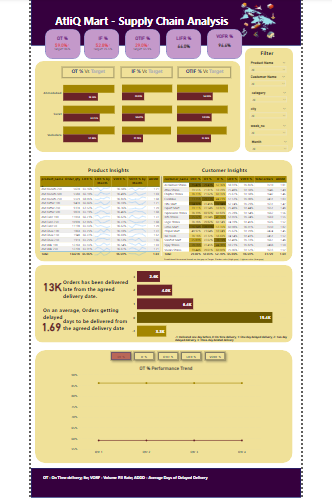

This screenshot's page, from the dashboard's own definition file:
{"tool":"powerbi","page":{"name":"Page 1","canvas":[1350,2500],"ordinal":0},"visuals":[{"type":"shape","box":[18,316,1028,456],"z":0},{"type":"textbox","box":[155.9,1393.5,350.3,135.3],"z":0,"group":"g2"},{"type":"textbox","box":[56.8,1536,449.2,101.2],"z":0,"group":"g1"},{"type":"shape","box":[1068,250,240,522],"z":1000},{"type":"card","fields":{"Values":["fact_order_lines.delayed order count"]},"box":[42,1368,132.3,135.3],"z":1000,"group":"g2"},{"type":"card","fields":{"Values":["fact_order_lines.ADDD"]},"box":[30,1550.5,142.8,173.5],"z":1000,"group":"g1"},{"type":"textbox","box":[155,1589,339.1,135],"z":2000,"group":"g1"},{"type":"shape","box":[0,2352,1350,148],"z":2000},{"type":"shape","box":[20,812,1288,508],"z":3000},{"type":"shape","box":[20,1336,1288,388],"z":4000},{"type":"shape","box":[0,0,1350,238],"z":5000},{"type":"shape","box":[20,1760,1288,566],"z":6000},{"type":"shape","box":[880,154,176,150],"z":7000},{"type":"shape","box":[264,154,176,150],"z":8000},{"type":"shape","box":[470,154,176,150],"z":9000},{"type":"shape","box":[674,154,176,150],"z":10000},{"type":"shape","box":[68,154,178,150],"z":11000},{"type":"kpi","title":"OT %","fields":{"Indicator":["fact_order_lines.OT %"],"TrendLine":["dim_date.mmm_yy"],"Goal":["dim_targets_orders.ontime target %"]},"box":[78,190,154,86],"z":12000},{"type":"kpi","title":"IF %","fields":{"Indicator":["fact_order_lines.IF %"],"Goal":["dim_targets_orders.Infull target %"],"TrendLine":["dim_date.mmm_yy"]},"box":[274,192,172,82],"z":13000},{"type":"kpi","title":"OTIF %","fields":{"Indicator":["fact_order_lines.OTIF %"],"Goal":["dim_targets_orders.otif target %"],"TrendLine":["dim_date.mmm_yy"]},"box":[470,188,176,86],"z":14000},{"type":"card","title":"LIFR %","fields":{"Values":["fact_order_lines.LIFR %"]},"box":[674,192,178,72],"z":15000},{"type":"card","title":"VOFR %","fields":{"Values":["fact_order_lines.VOFR %"]},"box":[880,182,176,82],"z":16000},{"type":"clusteredBarChart","fields":{"Category":["dim_customers.city"],"Y":["dim_targets_orders.ontime target %","fact_order_lines.OT %"]},"box":[54,380,400,392],"z":17000},{"type":"clusteredBarChart","fields":{"Category":["dim_customers.city"],"Y":["dim_targets_orders.Infull target %","fact_order_lines.IF %"]},"box":[726,418,306,312],"z":18000},{"type":"clusteredBarChart","fields":{"Category":["dim_customers.city"],"Y":["dim_targets_orders.otif target %","fact_order_lines.OTIF %"]},"box":[450,418,308,312],"z":19000},{"type":"tableEx","fields":{"Values":["dim_products.product_name","Sum(fact_order_lines.order_qty)","fact_order_lines.LIFR %","SparklineData(fact_order_lines.LIFR %_[dim_date.date.Variation.Date Hierarchy.Month])","fact_order_lines.VOFR %","SparklineData(fact_order_lines.VOFR %_[dim_date.date.Variation.Date Hierarchy.Month])","fact_order_lines.ADDD"]},"box":[40,886,622,410],"z":20000},{"type":"tableEx","fields":{"Values":["dim_customers.customer_name","fact_order_lines.OTIF %","fact_order_lines.OT %","fact_order_lines.IF %","fact_order_lines.LIFR %","fact_order_lines.VOFR %","fact_orders_aggregate.total orders","fact_order_lines.ADDD"]},"box":[654,886,644,424],"z":21000},{"type":"slicer","fields":{"Values":["dim_customers.customer_name"]},"box":[1084,380,198,74],"z":22000},{"type":"slicer","fields":{"Values":["dim_products.product_name"]},"box":[1086,312,200,68],"z":23000},{"type":"slicer","fields":{"Values":["dim_products.category"]},"box":[1088,460,198,82],"z":24000},{"type":"slicer","fields":{"Values":["dim_customers.city"]},"box":[1084,542,202,90],"z":25000},{"type":"slicer","fields":{"Values":["dim_date.week_no"]},"box":[1084,624,202,82],"z":26000},{"type":"slicer","fields":{"Values":["dim_date.date.Variation.Date Hierarchy.Month"]},"box":[1088,706,202,88],"z":27000},{"type":"clusteredBarChart","fields":{"Category":["fact_order_lines.daydelay"],"Y":["Count(fact_order_lines.order_id)"]},"box":[502,1350,784,358],"z":28000},{"type":"group","id":"g1","title":"Group 1","box":[30,1536,476,190],"z":29000},{"type":"group","id":"g2","title":"Group 2","box":[42,1368,464,162],"z":30000},{"type":"actionButton","box":[634,1770,100,40],"z":32000},{"type":"lineChart","title":"OT %  Performance Trend","fields":{"Y":["dim_targets_orders.ontime target %","fact_order_lines.OT %"],"Category":["dim_date.mmm_yy.Variation.Date Hierarchy.Quarter","dim_date.mmm_yy.Variation.Date Hierarchy.Month"]},"box":[196,1838,960,450],"z":33000},{"type":"actionButton","box":[400,1770,100,40],"z":34000},{"type":"actionButton","box":[516,1770,100,40],"z":36000},{"type":"actionButton","box":[750,1770,100,40],"z":38000},{"type":"actionButton","box":[868,1770,100,40],"z":40000},{"type":"textbox","box":[113.3,71.7,883.3,95],"z":41000},{"type":"image","box":[910,0,440,238],"z":42000},{"type":"textbox","box":[224,834,324,72],"z":43000},{"type":"textbox","box":[806,834,324,72],"z":44000},{"type":"textbox","box":[662,1290,528,38],"z":45000},{"type":"textbox","box":[54,2378,994,48],"z":46000},{"type":"textbox","box":[716,1678,592,48],"z":46001},{"type":"shape","box":[400,1770,100,40],"z":46002},{"type":"textbox","box":[156,346,260,54],"z":46007},{"type":"textbox","box":[452,346,256,54],"z":46008},{"type":"textbox","box":[734,346,264,54],"z":46009},{"type":"textbox","box":[1076,250,210,54],"z":46010}]}

Visuals, with their boxes in screenshot pixels (x1, y1, x2, y2):
shape: pyautogui.locateOnScreen(28, 42, 246, 138)
textbox: pyautogui.locateOnScreen(58, 270, 132, 298)
textbox: pyautogui.locateOnScreen(37, 300, 131, 321)
shape: pyautogui.locateOnScreen(250, 28, 301, 138)
card - fact_order_lines.delayed order count: pyautogui.locateOnScreen(34, 264, 61, 293)
card - fact_order_lines.ADDD: pyautogui.locateOnScreen(31, 303, 61, 339)
textbox: pyautogui.locateOnScreen(57, 311, 129, 339)
shape: pyautogui.locateOnScreen(25, 472, 310, 497)
shape: pyautogui.locateOnScreen(29, 147, 301, 254)
shape: pyautogui.locateOnScreen(29, 257, 301, 339)
shape: pyautogui.locateOnScreen(25, 0, 310, 26)
shape: pyautogui.locateOnScreen(29, 347, 301, 466)
shape: pyautogui.locateOnScreen(210, 8, 248, 40)
shape: pyautogui.locateOnScreen(80, 8, 118, 40)
shape: pyautogui.locateOnScreen(124, 8, 161, 40)
shape: pyautogui.locateOnScreen(167, 8, 204, 40)
shape: pyautogui.locateOnScreen(39, 8, 77, 40)
"OT %" kpi: pyautogui.locateOnScreen(41, 15, 74, 34)
"IF %" kpi: pyautogui.locateOnScreen(82, 16, 119, 33)
"OTIF %" kpi: pyautogui.locateOnScreen(124, 15, 161, 33)
"LIFR %" card: pyautogui.locateOnScreen(167, 16, 205, 31)
"VOFR %" card: pyautogui.locateOnScreen(210, 14, 248, 31)
clusteredBarChart - dim_customers.city x dim_targets_orders.ontime target %: pyautogui.locateOnScreen(36, 56, 121, 138)
clusteredBarChart - dim_customers.city x dim_targets_orders.Infull target %: pyautogui.locateOnScreen(178, 64, 243, 129)
clusteredBarChart - dim_customers.city x dim_targets_orders.otif target %: pyautogui.locateOnScreen(120, 64, 185, 129)
tableEx - dim_products.product_name x Sum(fact_order_lines.order_qty): pyautogui.locateOnScreen(33, 162, 164, 249)
tableEx - dim_customers.customer_name x fact_order_lines.OTIF %: pyautogui.locateOnScreen(163, 162, 299, 252)
slicer - dim_customers.customer_name: pyautogui.locateOnScreen(254, 56, 295, 71)
slicer - dim_products.product_name: pyautogui.locateOnScreen(254, 41, 296, 56)
slicer - dim_products.category: pyautogui.locateOnScreen(254, 72, 296, 90)
slicer - dim_customers.city: pyautogui.locateOnScreen(254, 90, 296, 109)
slicer - dim_date.week_no: pyautogui.locateOnScreen(254, 107, 296, 124)
slicer - dim_date.date.Variation.Date Hierarchy.Month: pyautogui.locateOnScreen(254, 124, 297, 143)
clusteredBarChart - fact_order_lines.daydelay x Count(fact_order_lines.order_id): pyautogui.locateOnScreen(131, 260, 296, 336)
"Group 1" group: pyautogui.locateOnScreen(31, 300, 131, 340)
"Group 2" group: pyautogui.locateOnScreen(34, 264, 131, 298)
actionButton: pyautogui.locateOnScreen(159, 349, 180, 358)
"OT %  Performance Trend" lineChart: pyautogui.locateOnScreen(66, 363, 269, 458)
actionButton: pyautogui.locateOnScreen(109, 349, 130, 358)
actionButton: pyautogui.locateOnScreen(134, 349, 155, 358)
actionButton: pyautogui.locateOnScreen(183, 349, 204, 358)
actionButton: pyautogui.locateOnScreen(208, 349, 229, 358)
textbox: pyautogui.locateOnScreen(49, 0, 235, 11)
image: pyautogui.locateOnScreen(217, 0, 310, 26)
textbox: pyautogui.locateOnScreen(72, 151, 140, 167)
textbox: pyautogui.locateOnScreen(195, 151, 263, 167)
textbox: pyautogui.locateOnScreen(164, 248, 276, 256)
textbox: pyautogui.locateOnScreen(36, 477, 246, 488)
textbox: pyautogui.locateOnScreen(176, 330, 301, 340)
shape: pyautogui.locateOnScreen(109, 349, 130, 358)
textbox: pyautogui.locateOnScreen(58, 48, 112, 60)
textbox: pyautogui.locateOnScreen(120, 48, 174, 60)
textbox: pyautogui.locateOnScreen(180, 48, 235, 60)
textbox: pyautogui.locateOnScreen(252, 28, 296, 40)
